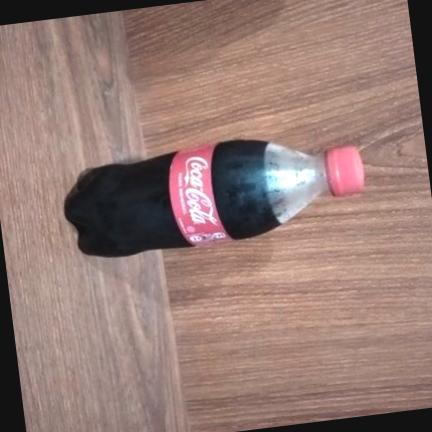container: (64, 139, 362, 256)
fluid: (64, 139, 278, 256), (66, 150, 191, 256)
fluid-surface: (263, 142, 294, 223)
